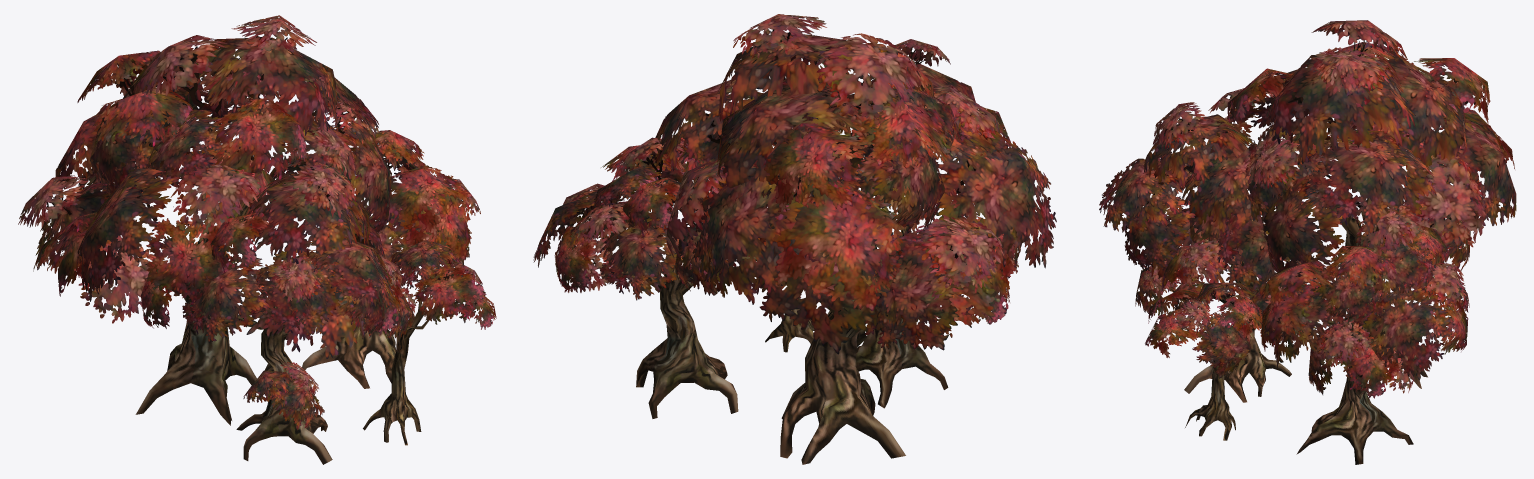
Rendered from FOL_TreeCherry.FBX.
3 views of the same model, side by side, from view 1: azimuth 30°, elevation 25°; view 2: azimuth 150°, elevation 25°; view 3: azimuth 270°, elevation 25° (orthographic). The views are drawn at different scales.
Parts seen in each view (by area): view 1: FOL_TreeCherry; view 2: FOL_TreeCherry; view 3: FOL_TreeCherry.
Part boxes in pixels (bbox=[...]): FOL_TreeCherry: bbox=[18, 15, 496, 464]; FOL_TreeCherry: bbox=[533, 14, 1056, 464]; FOL_TreeCherry: bbox=[1099, 20, 1516, 464].
Size of the model in its own units: 5459 by 4616 by 4959.
Materials: 1 (1 with a texture image).
